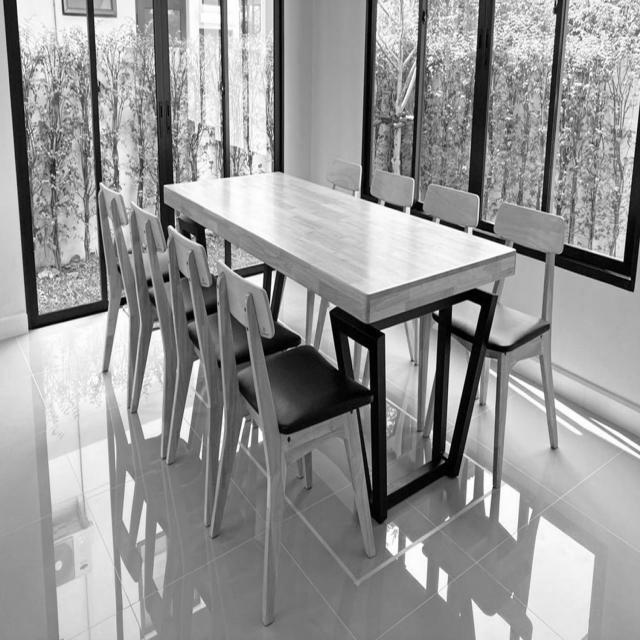table: (160, 161, 524, 323)
